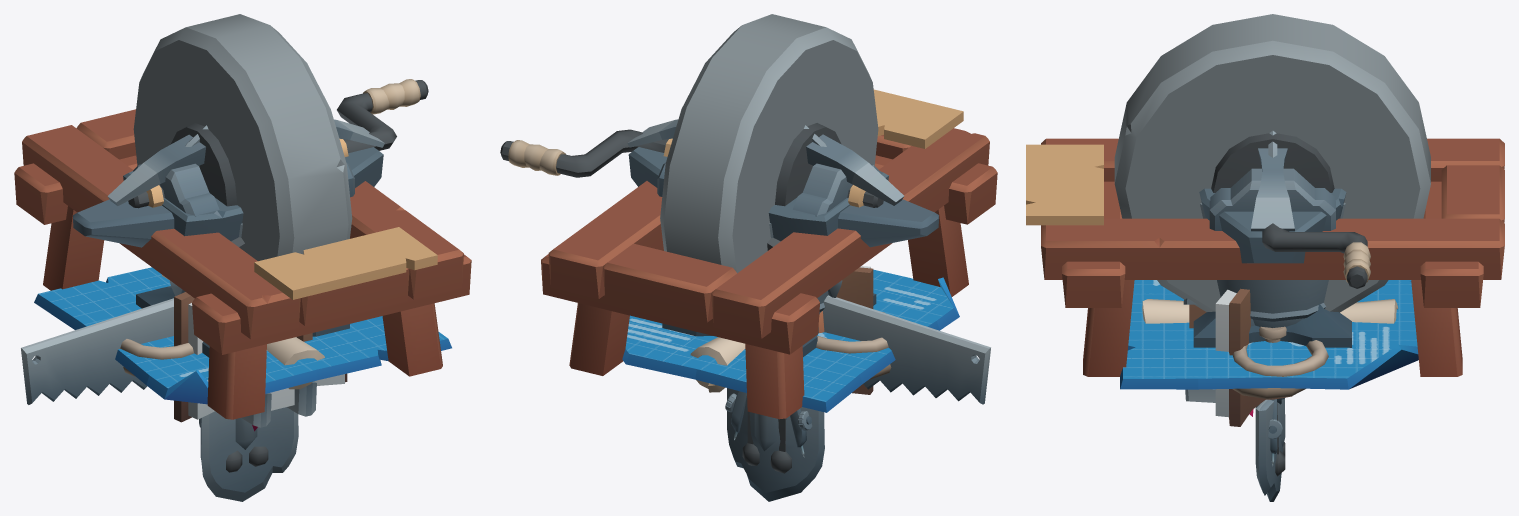
The model's file is tools.glb.
3 renders of one model, left to right at view 1: azimuth 30°, elevation 25°; view 2: azimuth 150°, elevation 25°; view 3: azimuth 270°, elevation 25°, orthographic.
Parts seen in each view (by area): view 1: grindstone, grindstone_wheel, blueprint, saw, anvil, shovel, pickaxe, journal_open, journal_closed, map_rolled, rope_bundle_A; view 2: grindstone, grindstone_wheel, blueprint, saw, anvil, shovel, pickaxe, journal_open, map_rolled, rope_bundle_A, tongs_part, drafting_compass_legRight (+1 smaller); view 3: grindstone_wheel, grindstone, blueprint, anvil, bucket_metal, journal_open, pickaxe, map_rolled, rope_bundle_A, shovel, journal_closed.
Part boxes in pixels (x1,y1,x2,y2): grindstone: (14, 109, 471, 419); grindstone_wheel: (128, 14, 428, 261); blueprint: (34, 267, 451, 404); saw: (21, 298, 173, 404); anvil: (73, 147, 383, 357); shovel: (200, 407, 298, 501); pickaxe: (107, 119, 384, 205); journal_open: (174, 292, 347, 422); journal_closed: (241, 333, 316, 431); map_rolled: (162, 275, 324, 389); rope_bundle_A: (120, 339, 193, 376); grindstone: (541, 89, 997, 419); grindstone_wheel: (500, 14, 883, 273); blueprint: (622, 269, 959, 412); saw: (818, 295, 990, 404); anvil: (628, 147, 938, 356); shovel: (727, 388, 824, 501); pickaxe: (627, 119, 904, 205); journal_open: (836, 266, 873, 394); map_rolled: (690, 337, 745, 392); rope_bundle_A: (816, 312, 891, 379); tongs_part: (770, 418, 791, 473); drafting_compass_legRight: (790, 408, 812, 457); grindstone_wheel: (1114, 14, 1430, 312); grindstone: (1026, 138, 1504, 376); blueprint: (1120, 280, 1418, 389); anvil: (1193, 188, 1351, 347); bucket_metal: (1200, 203, 1345, 327); journal_open: (1215, 288, 1265, 426); pickaxe: (1251, 148, 1294, 231); map_rolled: (1142, 299, 1398, 323); rope_bundle_A: (1232, 340, 1328, 398); shovel: (1255, 398, 1285, 501); journal_closed: (1183, 298, 1292, 402).
Size of the model in its own units: 2.46 by 2.48 by 2.27.
3 materials, 2 textured.
